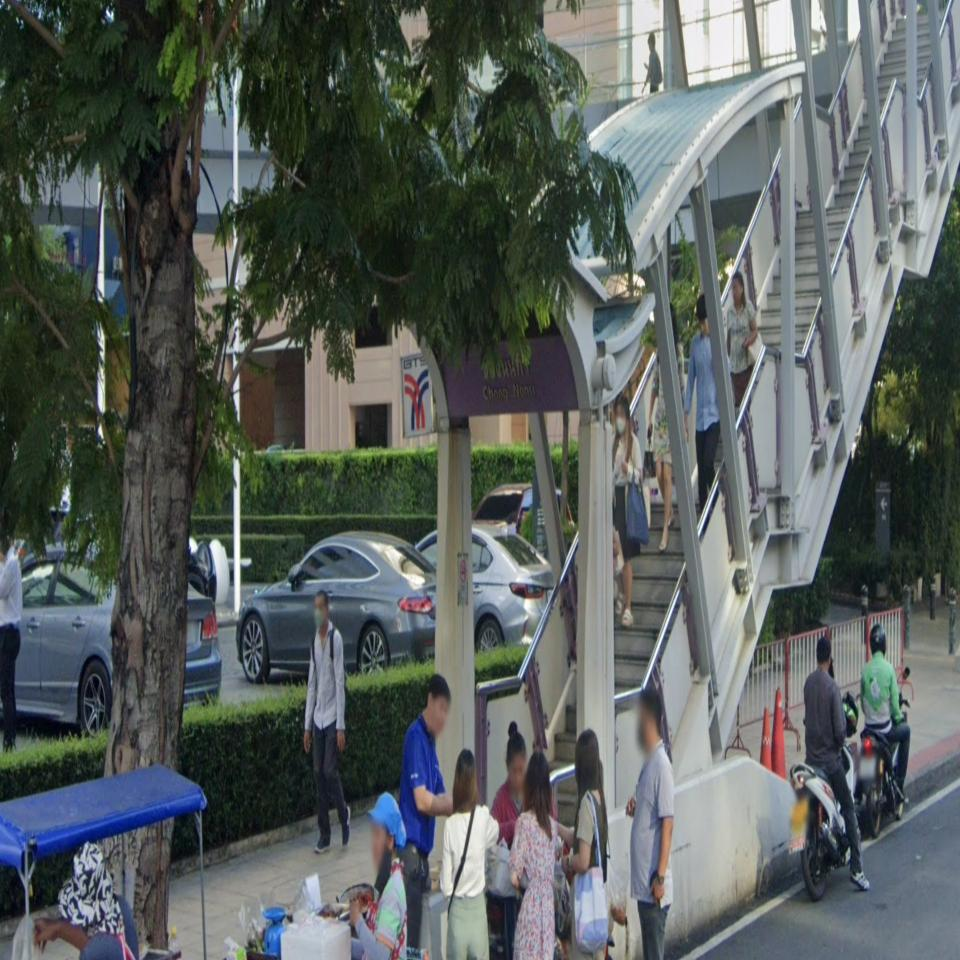Chong Nonsi: (401, 332, 580, 438), (434, 331, 580, 416)
